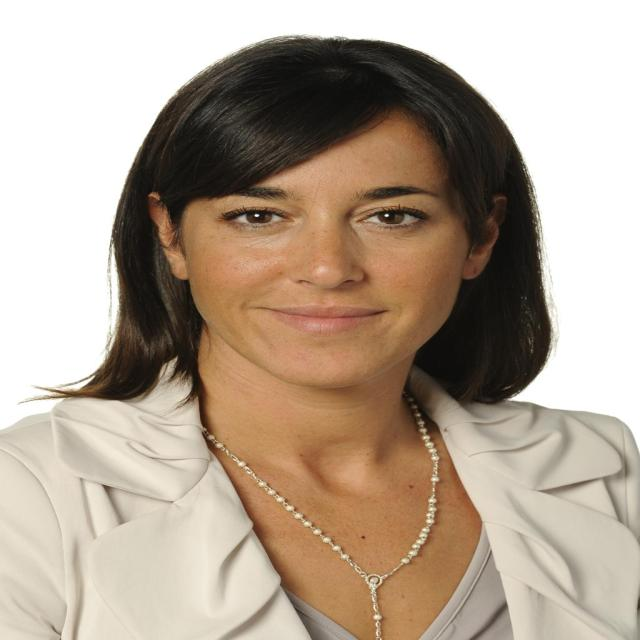Face: (156, 101, 511, 402)
